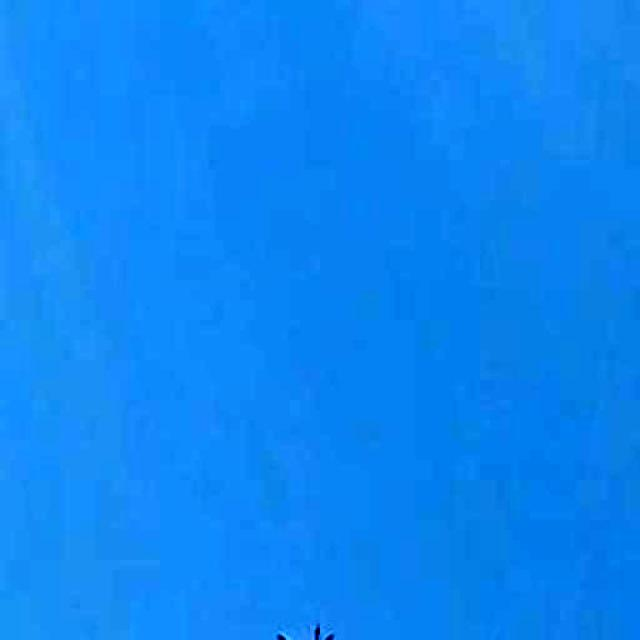drone: (259, 610, 362, 640)
